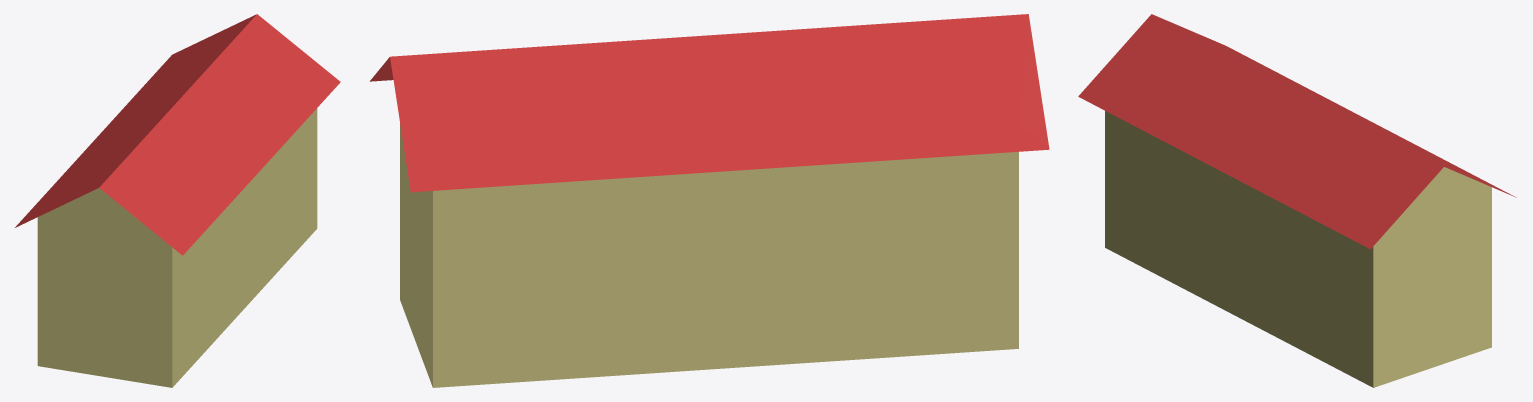
3 renders of one model, left to right at view 1: azimuth 30°, elevation 25°; view 2: azimuth 150°, elevation 25°; view 3: azimuth 270°, elevation 25°, orthographic. The views are drawn at different scales.
Size of the model in its own units: 25.18 by 23.05 by 11.97.
